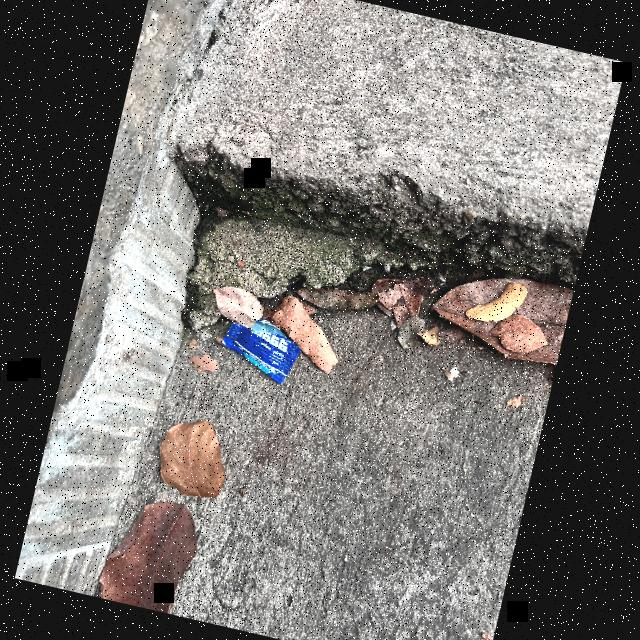scrap_plastic: (212, 302, 306, 388)
